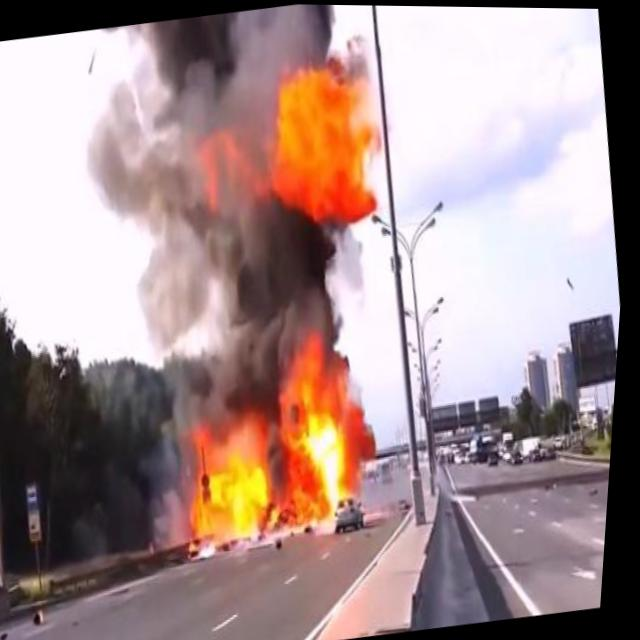fire: (173, 323, 394, 553), (251, 42, 396, 241)
